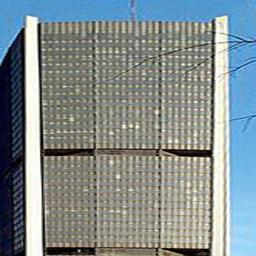building: (22, 0, 232, 256)
